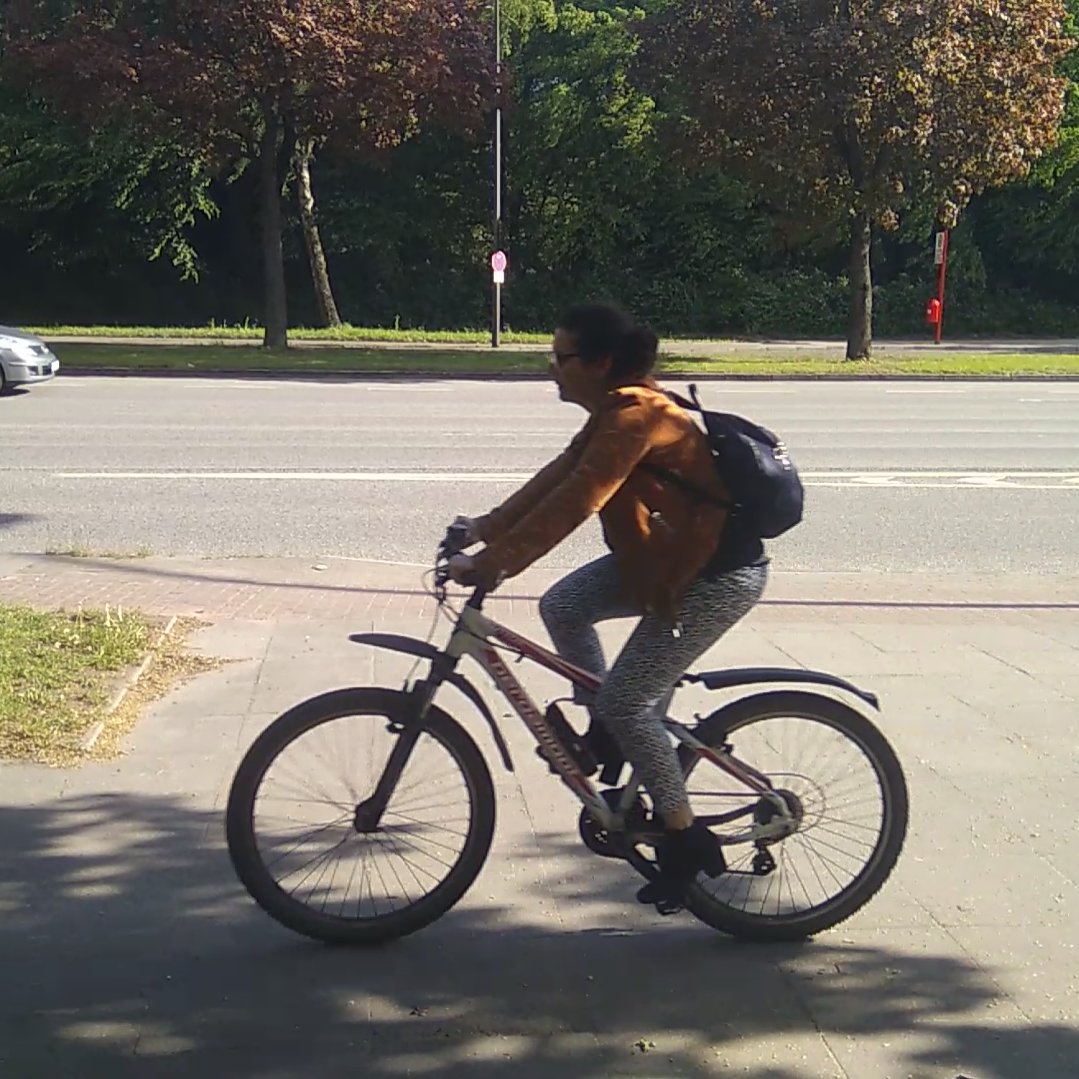bike_left: (215, 307, 913, 945)
